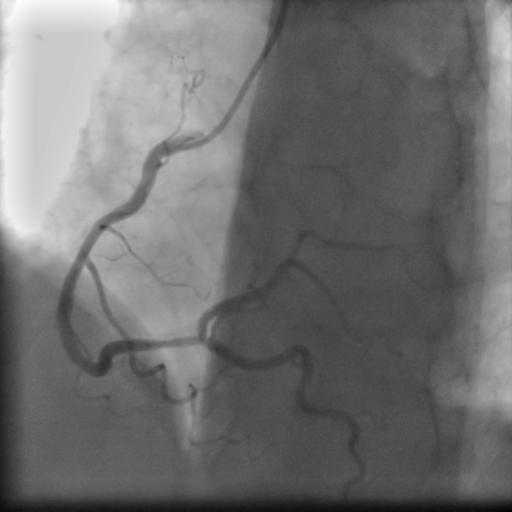Stenosis: (152, 330, 201, 355)
